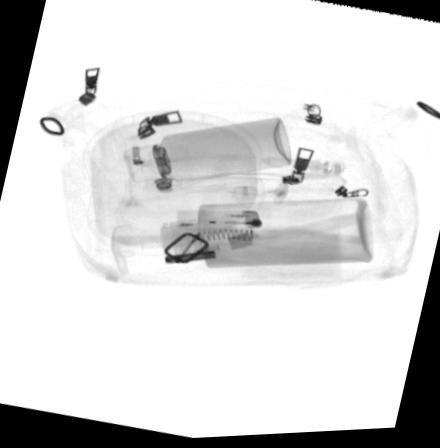Lighter: (174, 210, 260, 233)
Sprayer: (123, 120, 292, 185)
